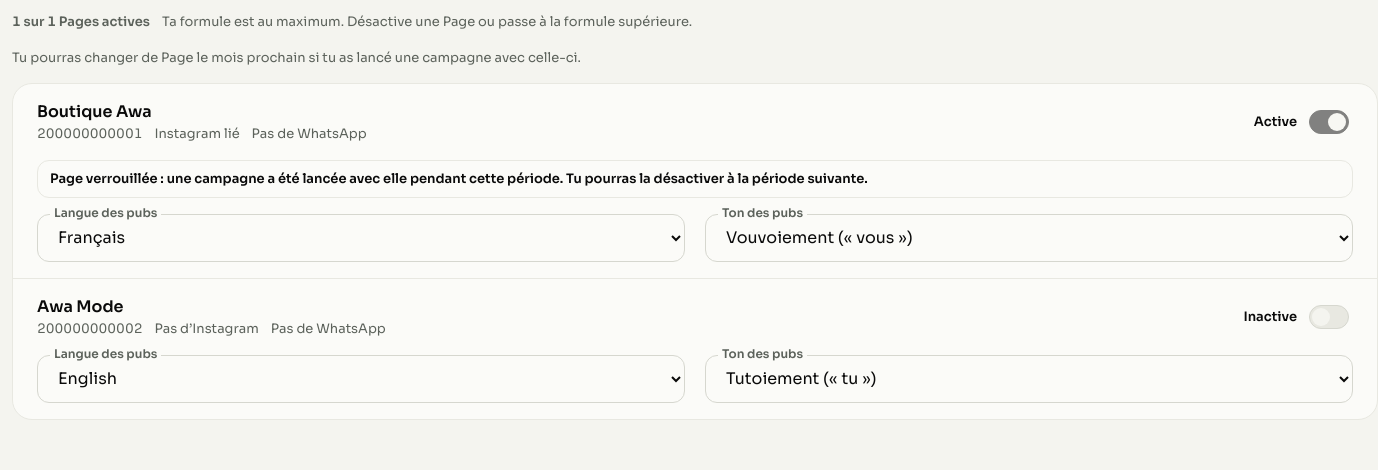
Test: PagesPanel › activer au-delà de la limite : le message de la formule s’affiche
Expected: the text "Awa Mode" is shown, 37,296 -> 124,316
Click the switch next to "Inactive": (1329, 316) 1305,294 -> 1353,338
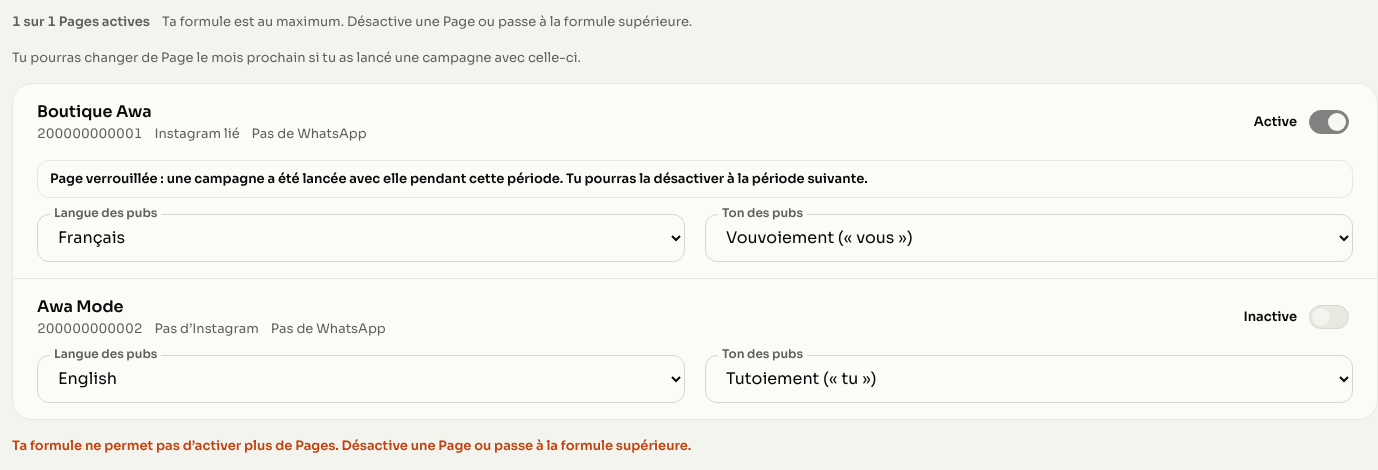
Expected: the text "Ta formule ne permet pas d’activer plus de Pages" is shown, 12,436 -> 691,454
